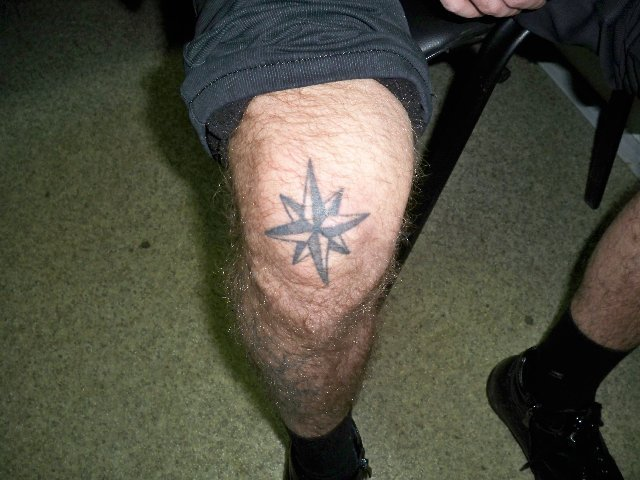tatu4_zvezda: (256, 158, 375, 289)
